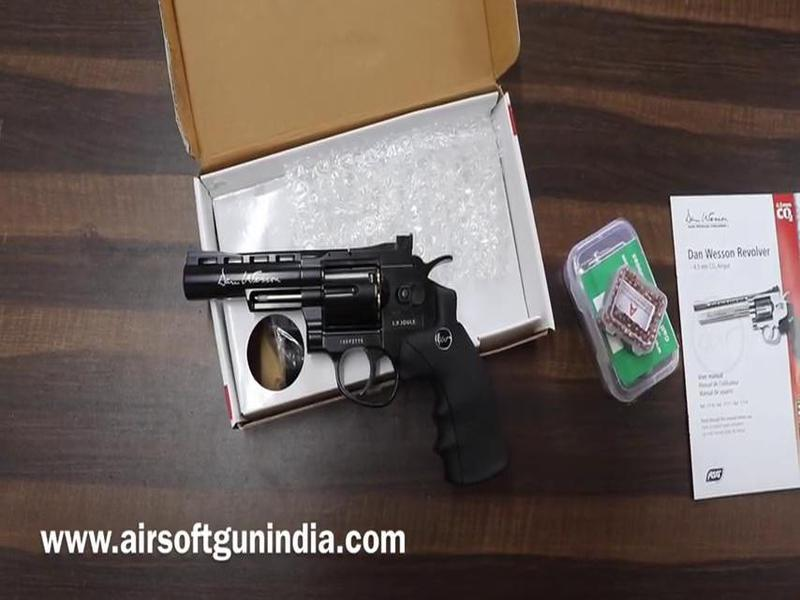Revolver: (172, 236, 504, 435)
